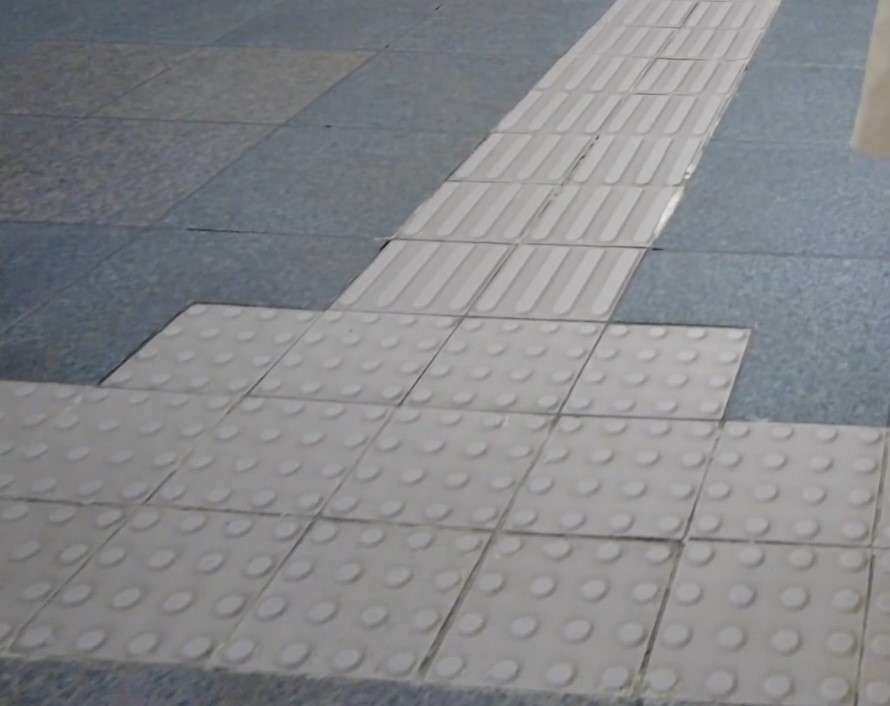guideBlock: (474, 242, 605, 320), (531, 175, 645, 242), (589, 131, 684, 190), (434, 183, 528, 233), (475, 139, 576, 184), (380, 247, 467, 299)
warningBlock: (9, 506, 235, 671), (658, 534, 884, 699), (238, 519, 461, 662), (464, 522, 646, 697), (525, 418, 696, 542), (186, 386, 348, 515), (699, 424, 888, 530), (352, 403, 518, 518), (5, 382, 175, 487), (582, 321, 745, 417), (422, 315, 578, 412), (262, 308, 418, 399), (181, 301, 266, 387)
